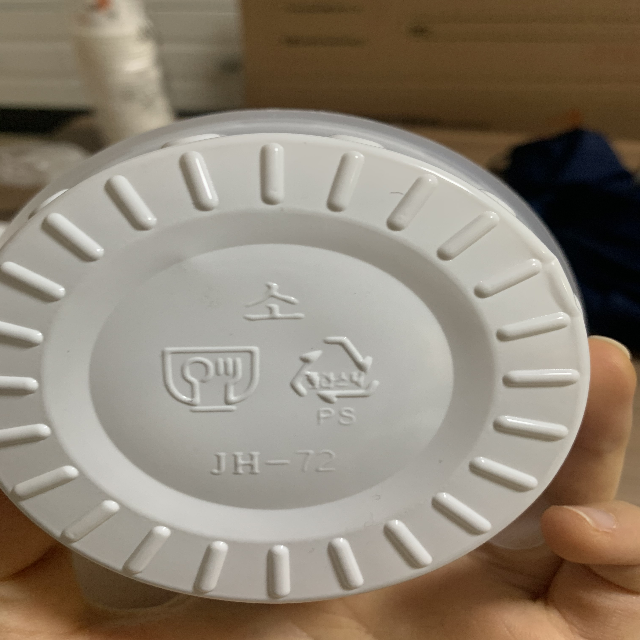ps: (284, 332, 382, 426)
